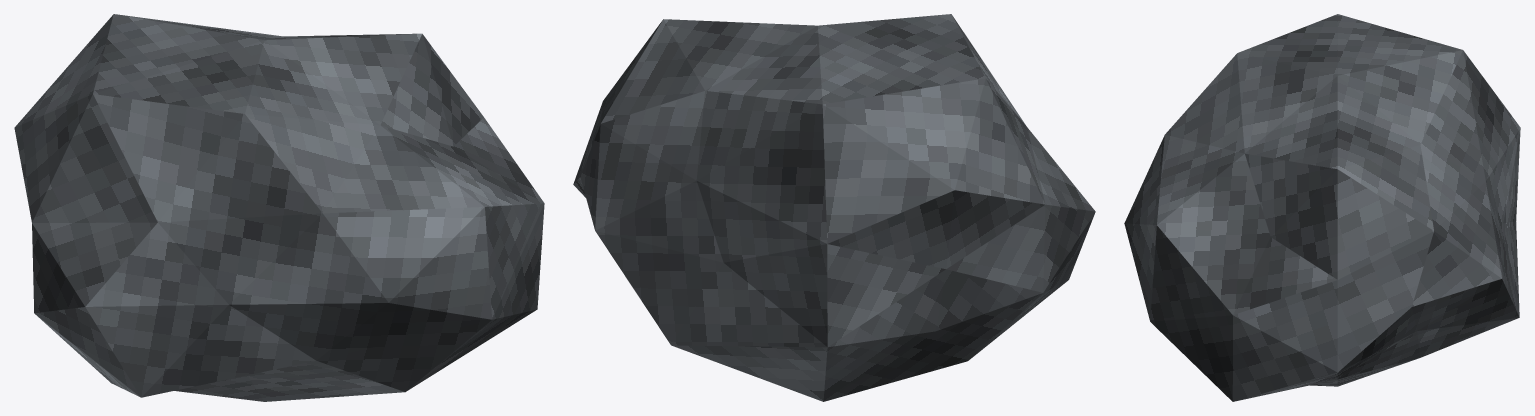
File: Astreroid_3.fbx
3 renders of one model, left to right at view 1: azimuth 30°, elevation 25°; view 2: azimuth 150°, elevation 25°; view 3: azimuth 270°, elevation 25°, orthographic. The views are drawn at different scales.
Visible parts, largest first — view 1: Asteroid_LowPoly; view 2: Asteroid_LowPoly; view 3: Asteroid_LowPoly.
Boxes of the visible parts, x1,y1,x2,y2 form: Asteroid_LowPoly: (14,14,544,401); Asteroid_LowPoly: (573,14,1095,401); Asteroid_LowPoly: (1124,14,1520,401).
Size of the model in its own units: 463 by 332 by 383.
